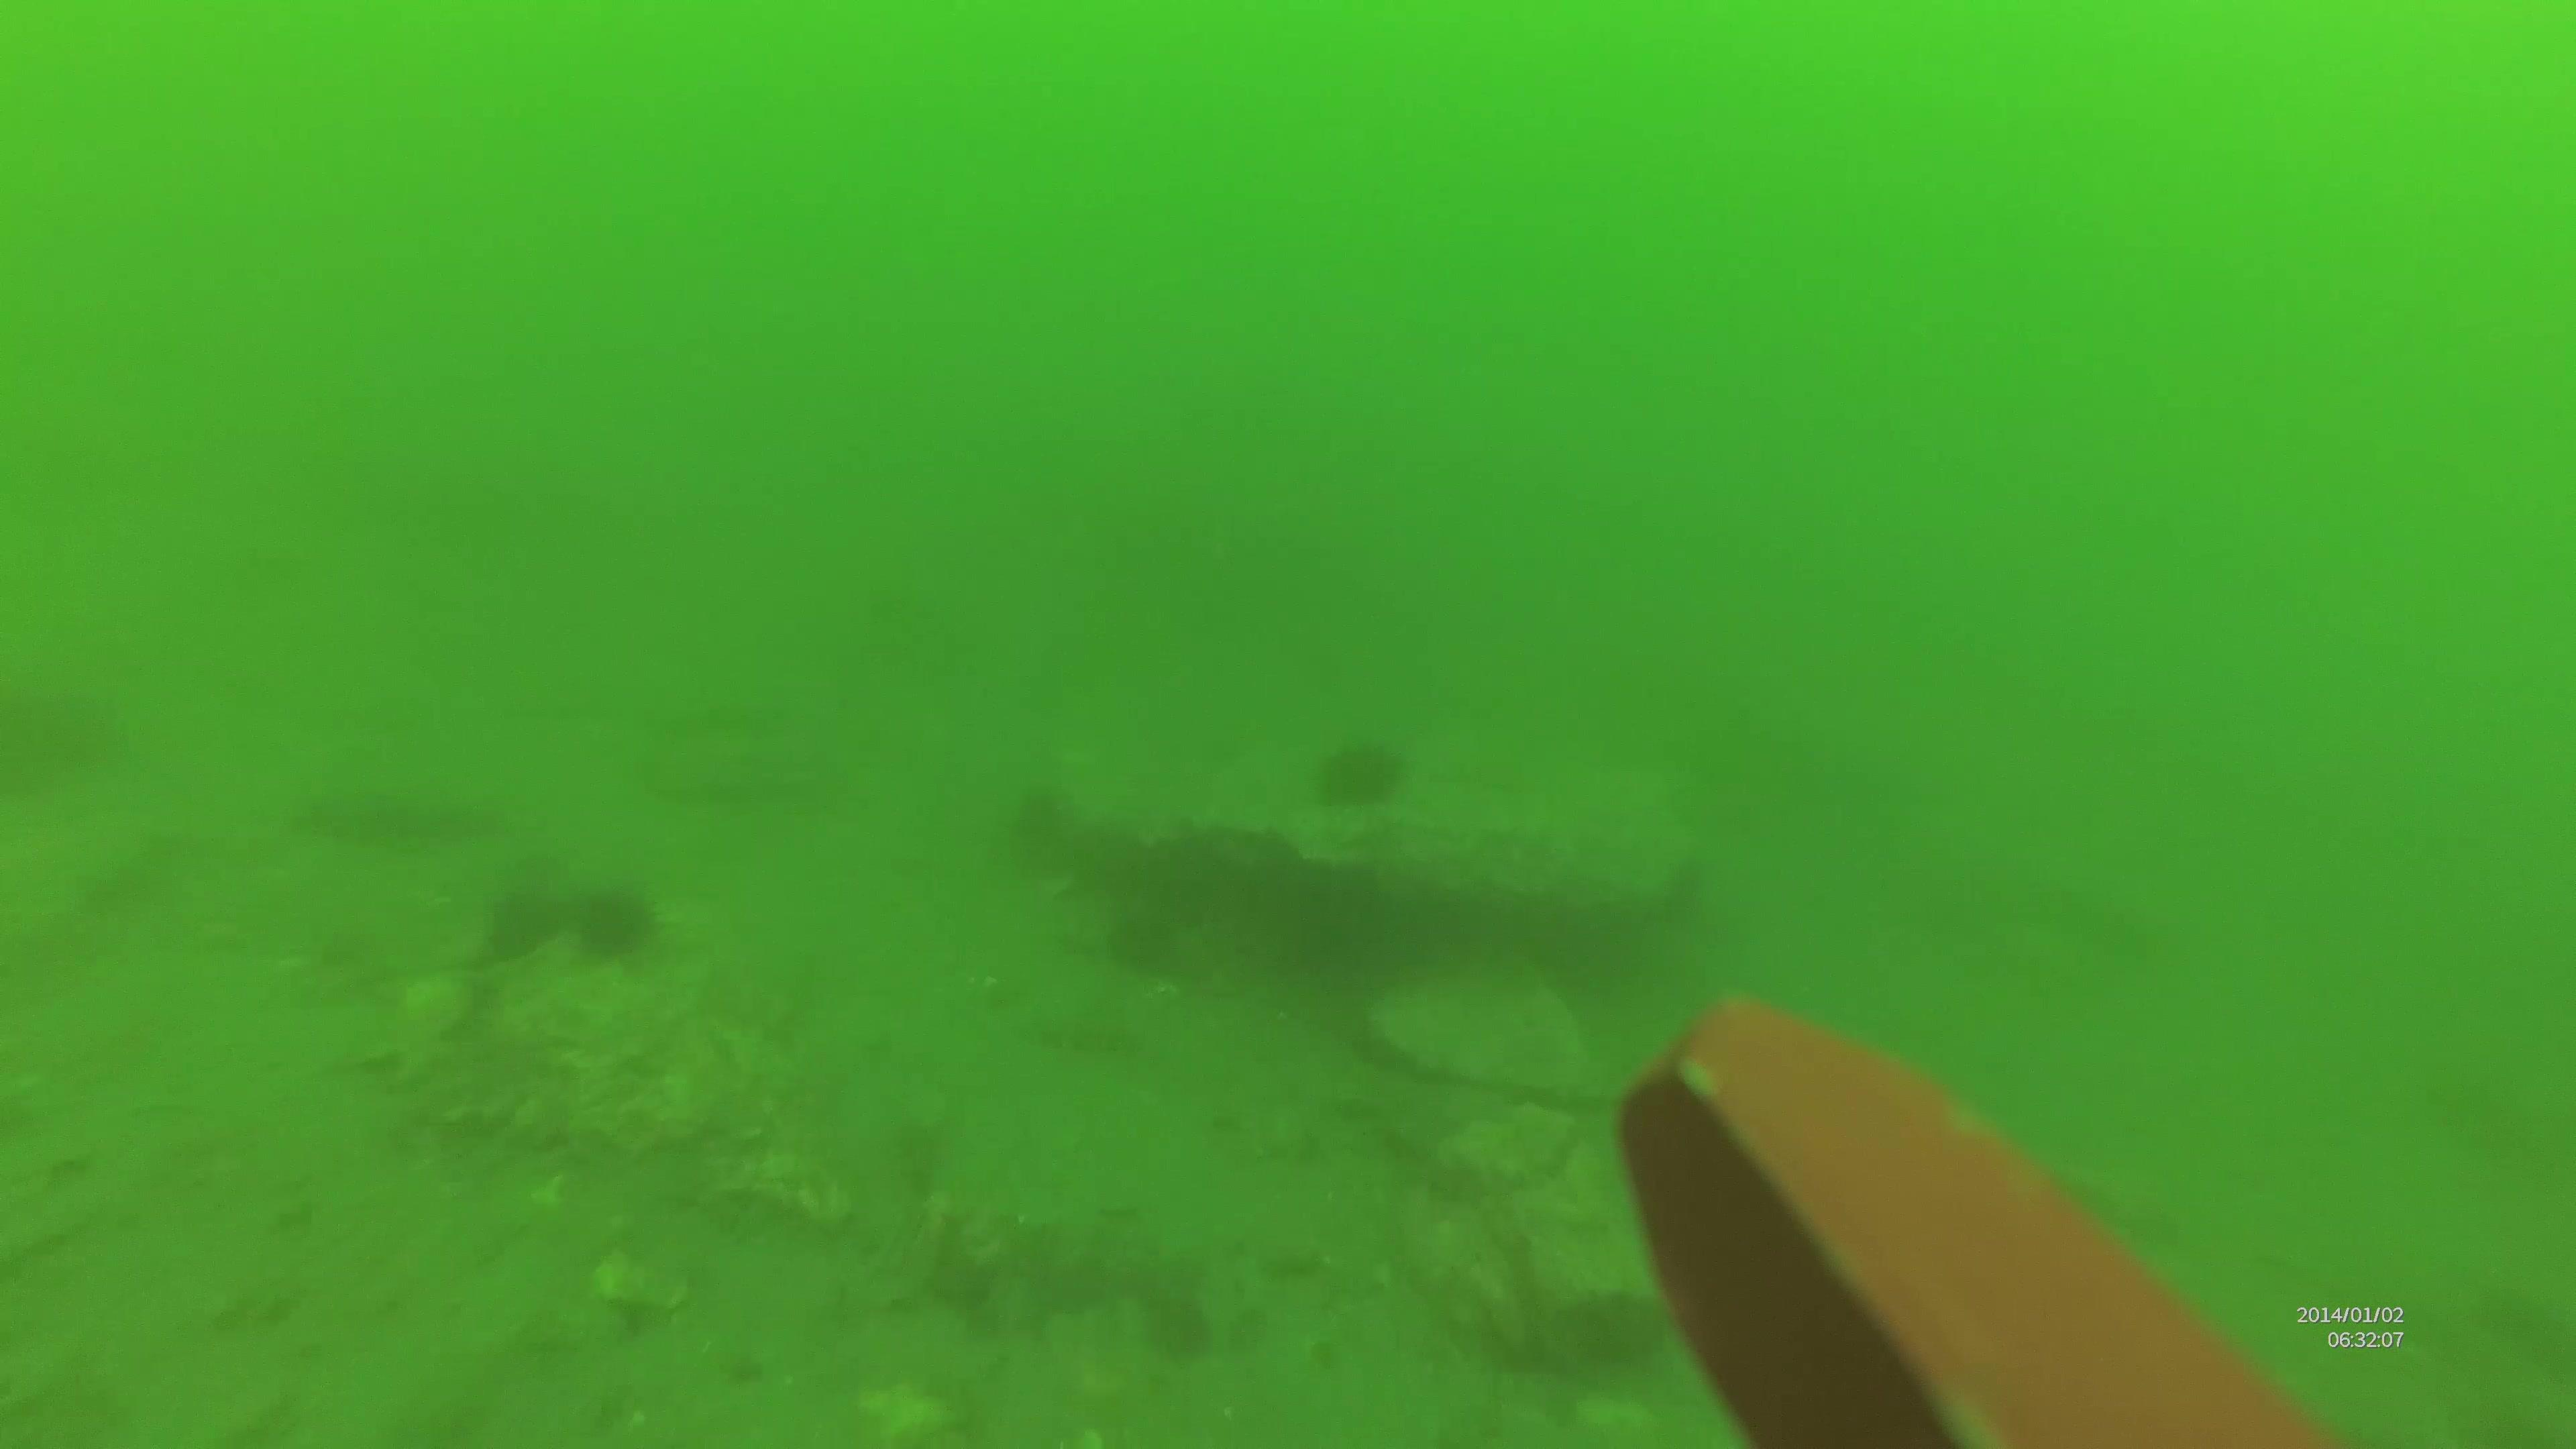echinus: (559, 879, 653, 970), (1315, 741, 1405, 817), (490, 885, 570, 961)
